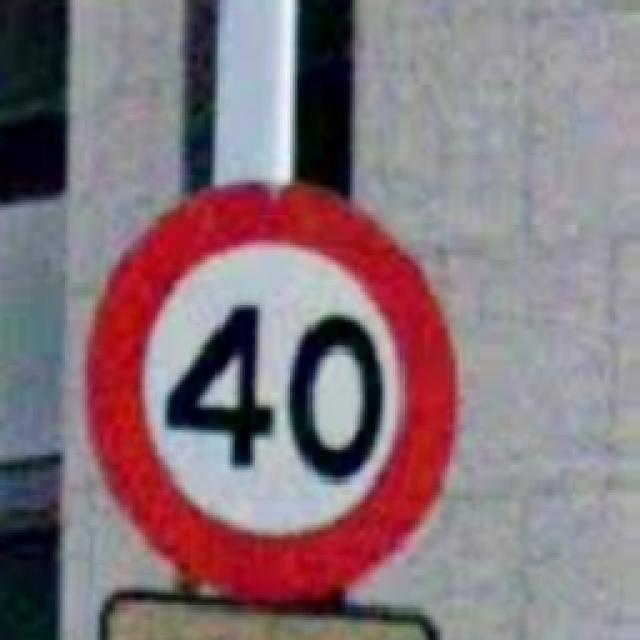Speed Limit -40-: (85, 182, 455, 598)
